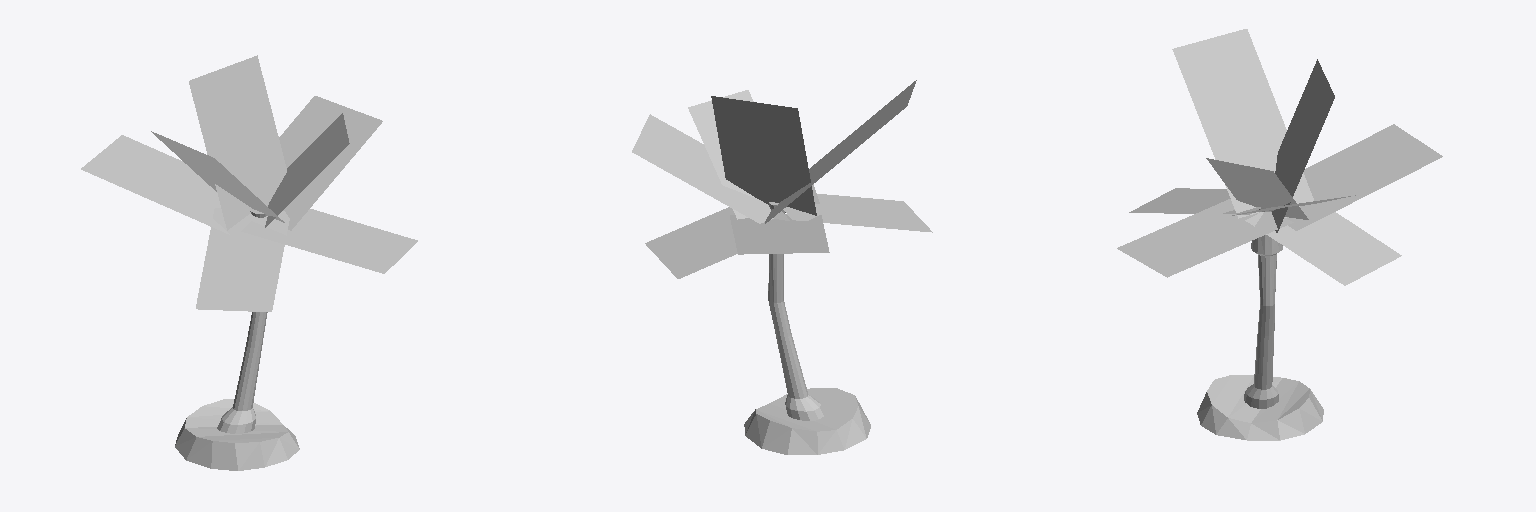
The model's file is scaledTree.obj.
3 views of the same model, side by side, from view 1: azimuth 30°, elevation 25°; view 2: azimuth 150°, elevation 25°; view 3: azimuth 270°, elevation 25° (orthographic).
Visible parts, largest first — view 1: group2_pasted__pPlane2; view 2: group2_pasted__pPlane2; view 3: group2_pasted__pPlane2.
Part boxes in pixels (bbox=[...]): group2_pasted__pPlane2: bbox=[81, 55, 417, 470]; group2_pasted__pPlane2: bbox=[632, 80, 932, 454]; group2_pasted__pPlane2: bbox=[1117, 29, 1442, 440].
Bounding box in the file's own units: 12.17 × 16.38 × 14.03.